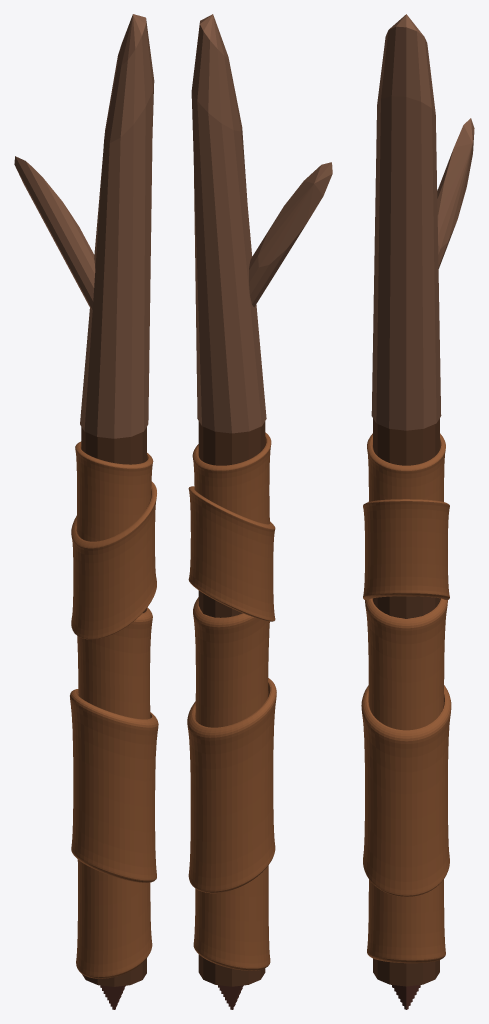
The model's file is Wand 364.glb.
The picture shows the model from 3 angles, left to right: view 1: azimuth 30°, elevation 25°; view 2: azimuth 210°, elevation 25°; view 3: azimuth 270°, elevation 25°; orthographic projection.
Parts seen in each view (by area): view 1: GeneratedWand; view 2: GeneratedWand; view 3: GeneratedWand.
Part boxes in pixels (x1,y1,x2,y2): GeneratedWand: (14, 14, 158, 1009); GeneratedWand: (187, 14, 332, 1009); GeneratedWand: (361, 14, 474, 1009).
Size of the model in its own units: 0.0578 by 0.5026 by 0.0513.
